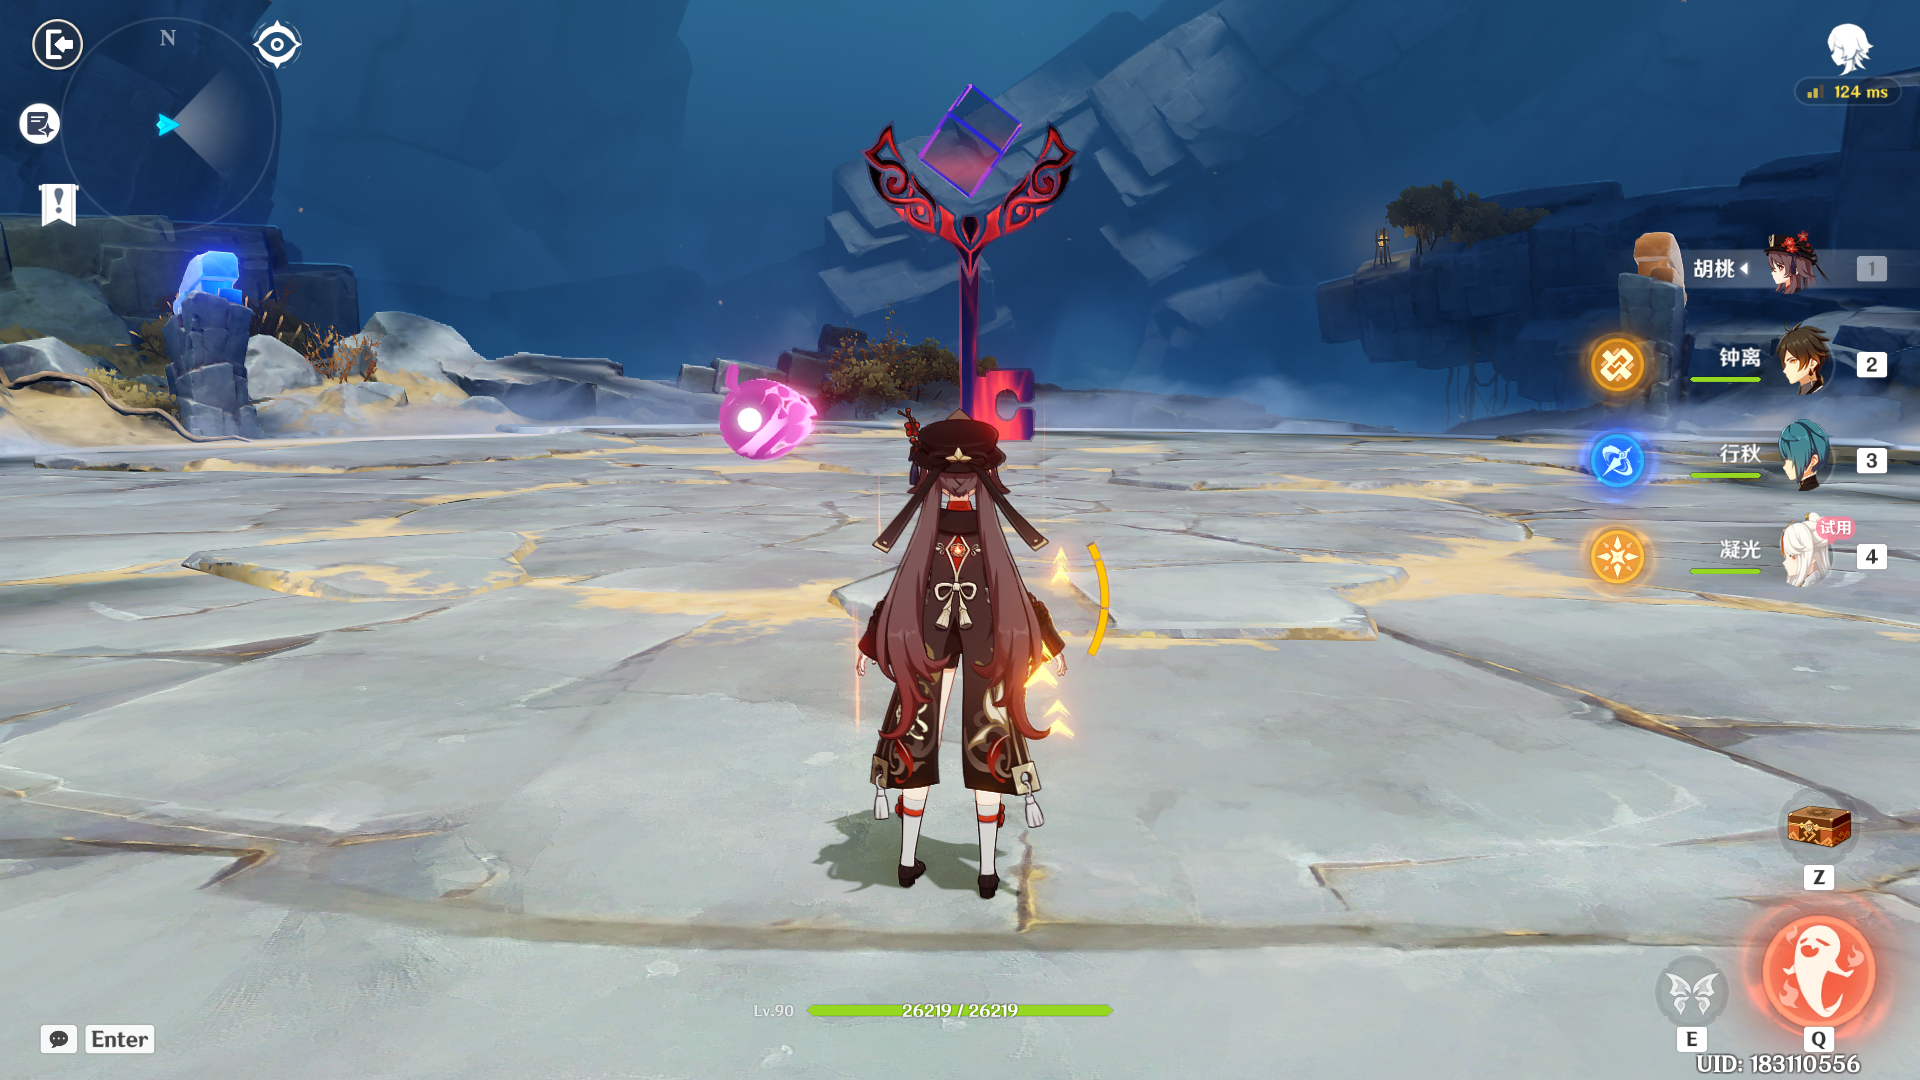character: (825, 392, 1126, 960)
